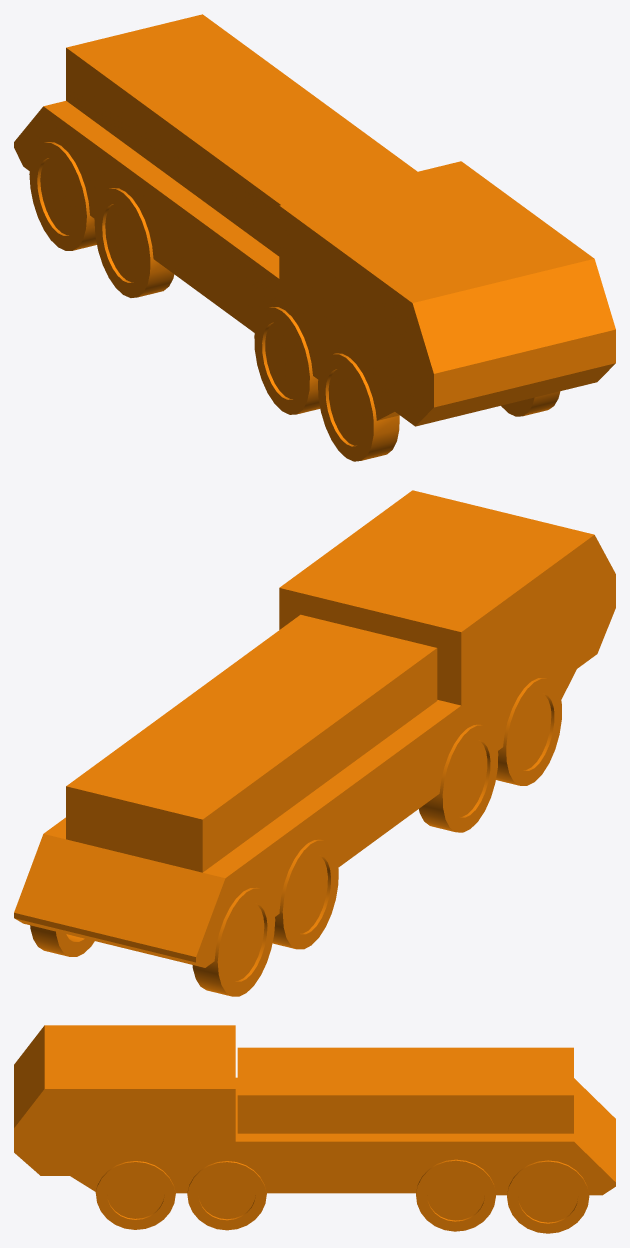
The model's file is Boardgame_Troop_HQ_Token_Orange_01.fbx.
3 renders of one model, top to bottom at view 1: azimuth 30°, elevation 25°; view 2: azimuth 150°, elevation 25°; view 3: azimuth 270°, elevation 25°, orthographic. The views are drawn at different scales.
Parts seen in each view (by area): view 1: Model; view 2: Model; view 3: Model.
Boxes of the visible parts, x1,y1,x2,y2 form: Model: (14,14,615,461); Model: (14,490,615,996); Model: (14,1025,615,1233).
Bounding box in the file's own units: 142 × 144 × 547.
